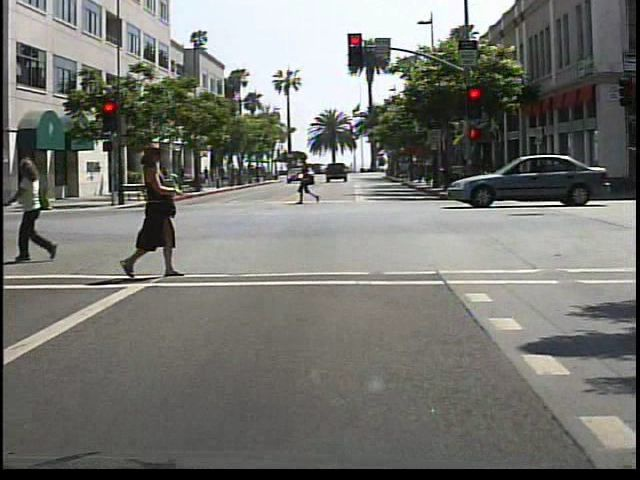person: (121, 136, 199, 278), (19, 158, 70, 268), (295, 157, 324, 206), (1, 145, 5, 286), (174, 163, 190, 193)
